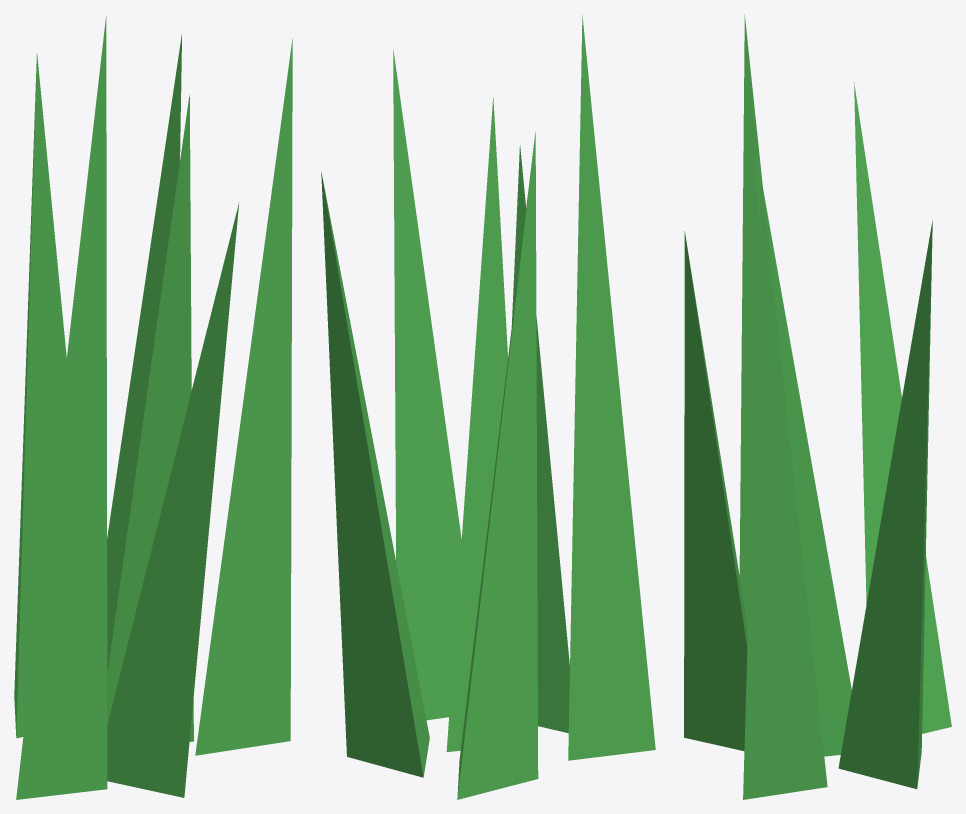
The model's file is GrassMesh.fbx.
The picture shows the model from 3 angles, left to right: view 1: azimuth 30°, elevation 25°; view 2: azimuth 150°, elevation 25°; view 3: azimuth 270°, elevation 25°; orthographic projection. The views are drawn at different scales.
Parts seen in each view (by area): view 1: Cone; view 2: Cone; view 3: Cone.
Boxes of the visible parts, box(x1,y1,x2,y2) form: Cone: box(14, 15, 292, 799); Cone: box(321, 15, 655, 799); Cone: box(684, 15, 951, 799).
Size of the model in its own units: 282 by 744 by 256.
